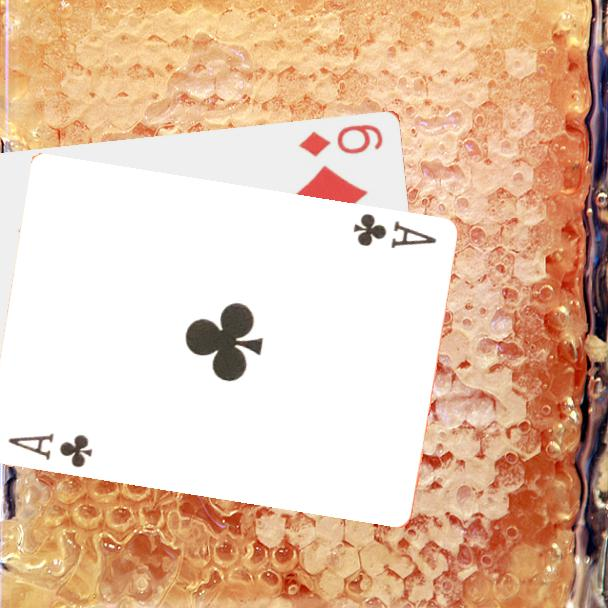c01: (349, 210, 439, 252), (4, 430, 95, 471)
d06: (296, 120, 386, 159)
